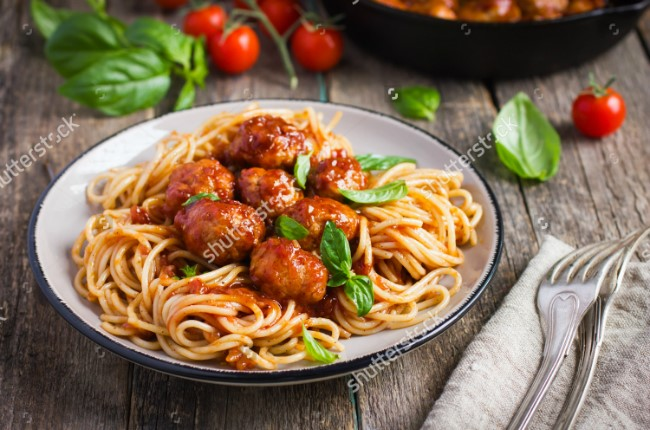meatballs: (179, 194, 264, 262), (249, 234, 328, 306), (230, 117, 315, 175), (279, 193, 356, 252), (168, 153, 237, 214), (243, 162, 305, 216), (314, 154, 366, 200)
plain spaghetti: (63, 112, 478, 372)
